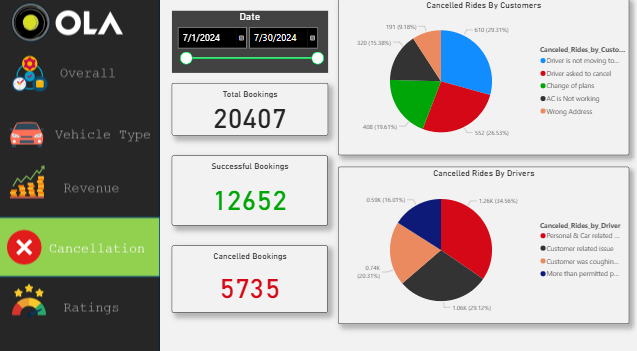

The dashboard page shown, as its layout file describes it:
{"tool":"powerbi","page":{"name":"cancellation","canvas":[1280,720],"ordinal":3},"visuals":[{"type":"actionButton","box":[0,221.7,315,90],"z":0},{"type":"actionButton","box":[0,343.3,315,76.7],"z":1000},{"type":"actionButton","box":[0,576.7,315,76.7],"z":2000},{"type":"actionButton","box":[0,106.7,315,86.7],"z":3000},{"type":"pieChart","title":"Cancelled Rides By Customers","fields":{"Category":["July.Canceled_Rides_by_Customer"],"Y":["CountNonNull(July.Canceled_Rides_by_Customer)"]},"box":[680,0,582,314],"z":4000},{"type":"pieChart","title":"Cancelled Rides By Drivers","fields":{"Category":["July.Canceled_Rides_by_Driver"],"Y":["CountNonNull(July.Canceled_Rides_by_Driver)"]},"box":[680,338,582,314],"z":5000},{"type":"slicer","title":"Date","fields":{"Values":["July.Date"]},"box":[347.5,25,312.5,125],"z":6000},{"type":"card","title":"Total Bookings","fields":{"Values":["CountNonNull(July.Booking_ID)"]},"box":[347.5,170,312.5,105],"z":7000},{"type":"card","title":"Successful Bookings","fields":{"Values":["CountNonNull(July.Booking_ID)"]},"box":[348,314,312,140],"z":8000},{"type":"card","title":"Cancelled Bookings","fields":{"Values":["CountNonNull(July.Booking_ID)"]},"box":[348,496,312,134],"z":9000}]}

Visuals, with their boxes in screenshot pixels (x1, y1, x2, y2), scaled from the page's 1280x720 canvas onto the 637x351 screenshot:
actionButton: bbox=(0, 108, 157, 152)
actionButton: bbox=(0, 167, 157, 205)
actionButton: bbox=(0, 281, 157, 319)
actionButton: bbox=(0, 52, 157, 94)
"Cancelled Rides By Customers" pieChart: bbox=(338, 0, 628, 153)
"Cancelled Rides By Drivers" pieChart: bbox=(338, 165, 628, 318)
"Date" slicer: bbox=(173, 12, 328, 73)
"Total Bookings" card: bbox=(173, 83, 328, 134)
"Successful Bookings" card: bbox=(173, 153, 328, 221)
"Cancelled Bookings" card: bbox=(173, 242, 328, 307)
